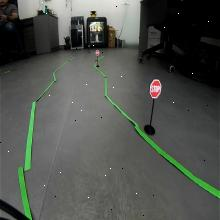stop: (149, 78, 162, 98)
